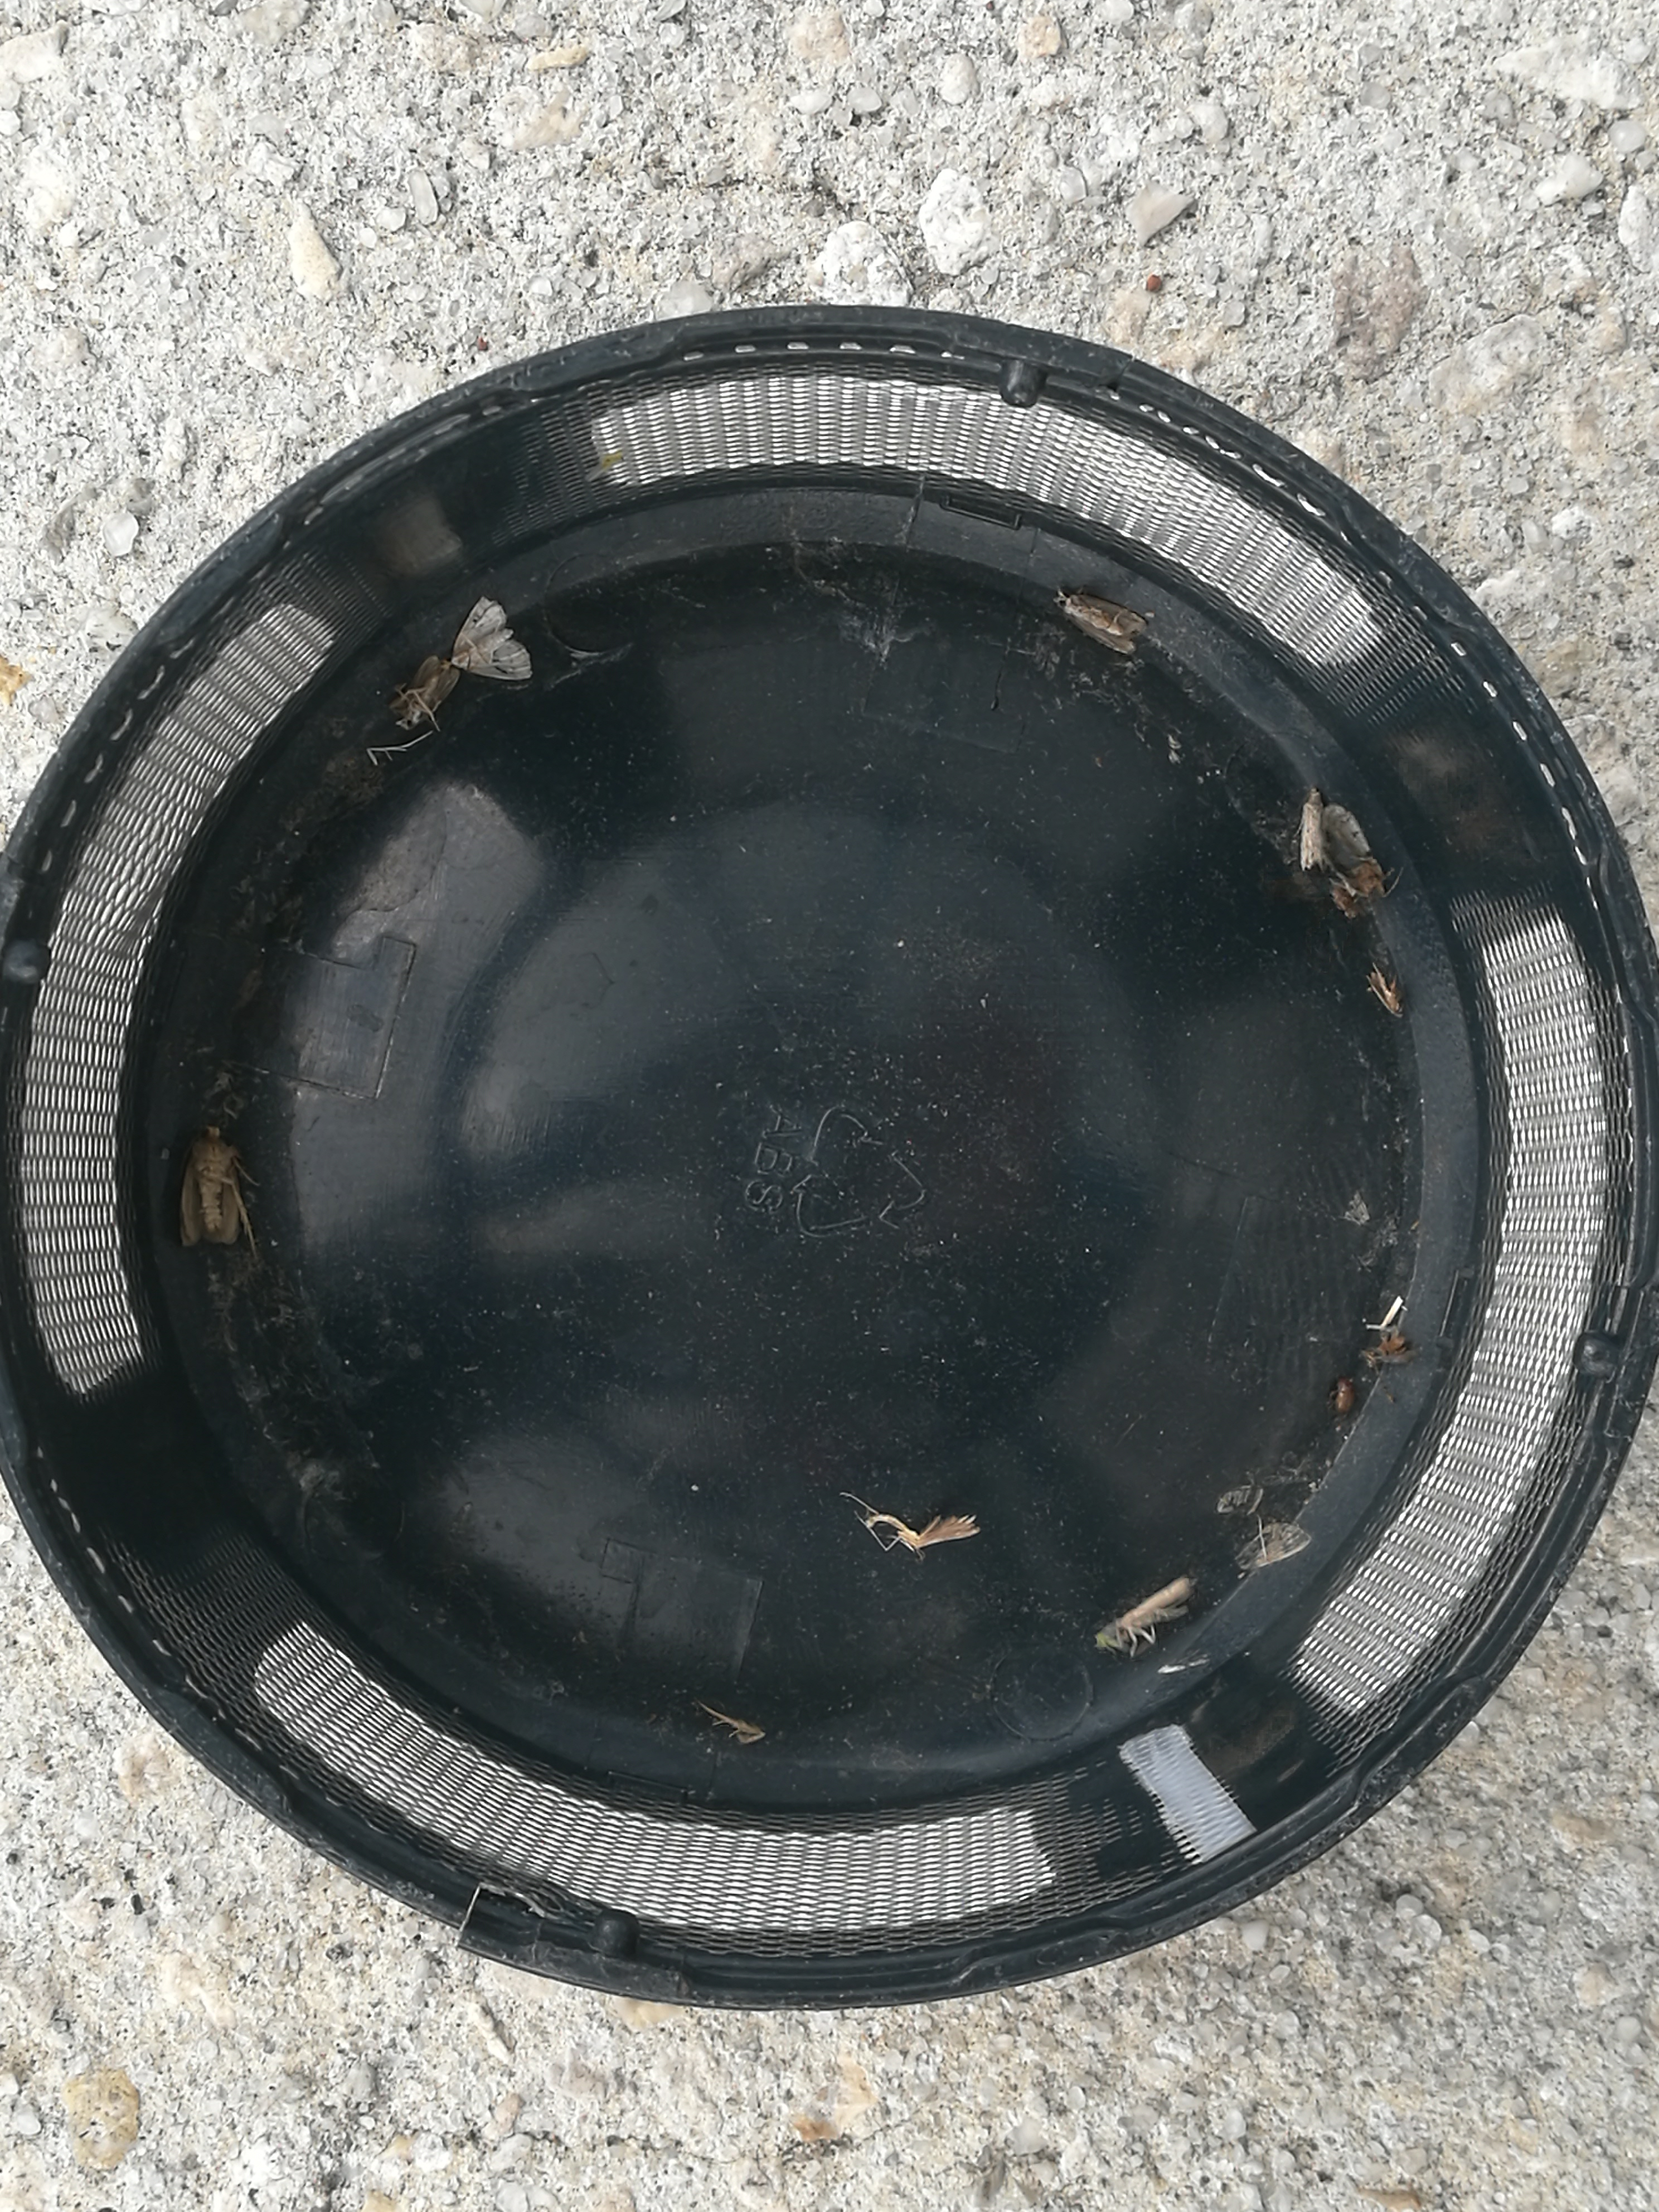mosquito: (1094, 1576, 1192, 1660), (1371, 965, 1405, 1021), (1300, 791, 1323, 871)
moth: (181, 1127, 239, 1245), (460, 596, 535, 679), (1058, 596, 1150, 657), (406, 660, 457, 730)
